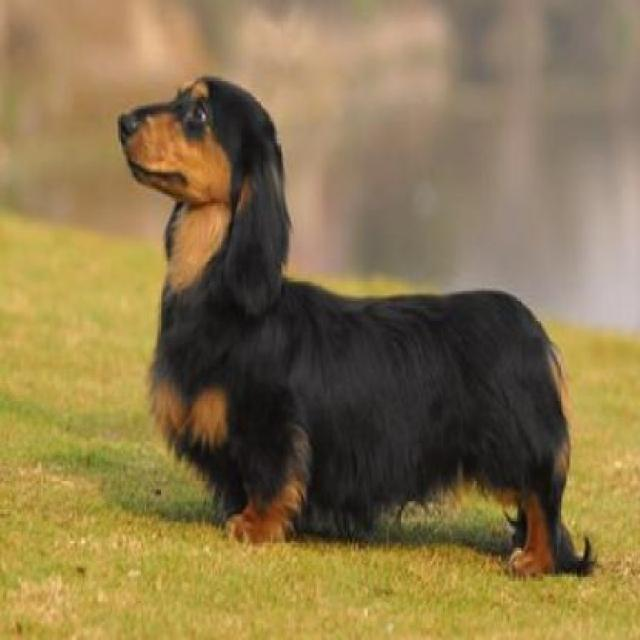Dog: (117, 74, 598, 580)
